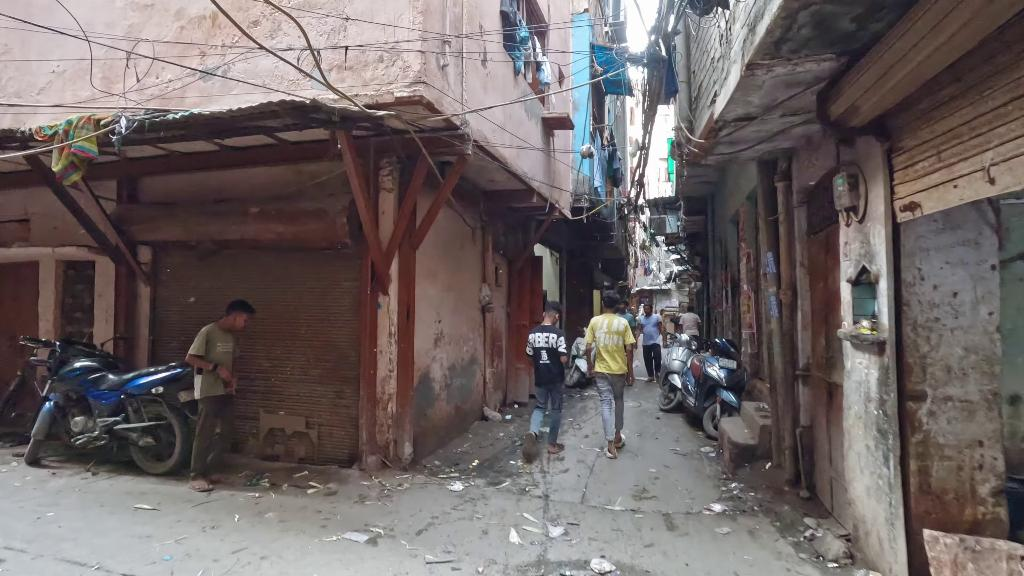garbage: (509, 509, 572, 553), (341, 521, 388, 543), (585, 553, 618, 576), (701, 499, 731, 521), (446, 477, 467, 498)
